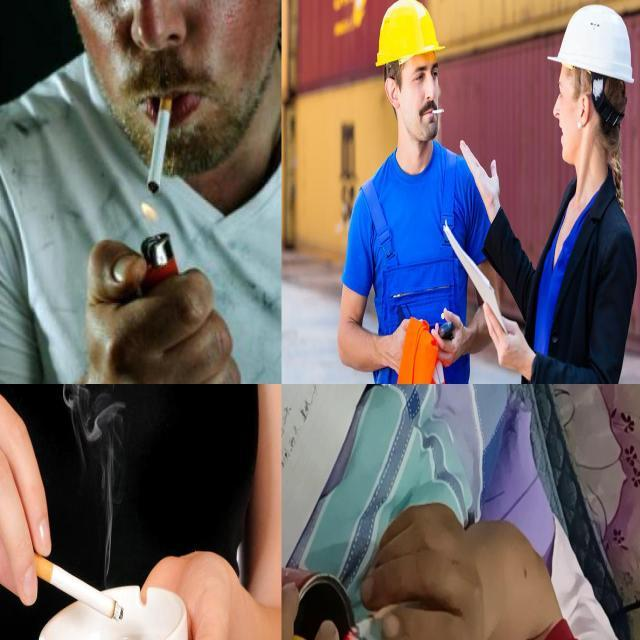smoking: (29, 542, 126, 628), (147, 88, 175, 195), (343, 604, 404, 640), (431, 110, 445, 116)
